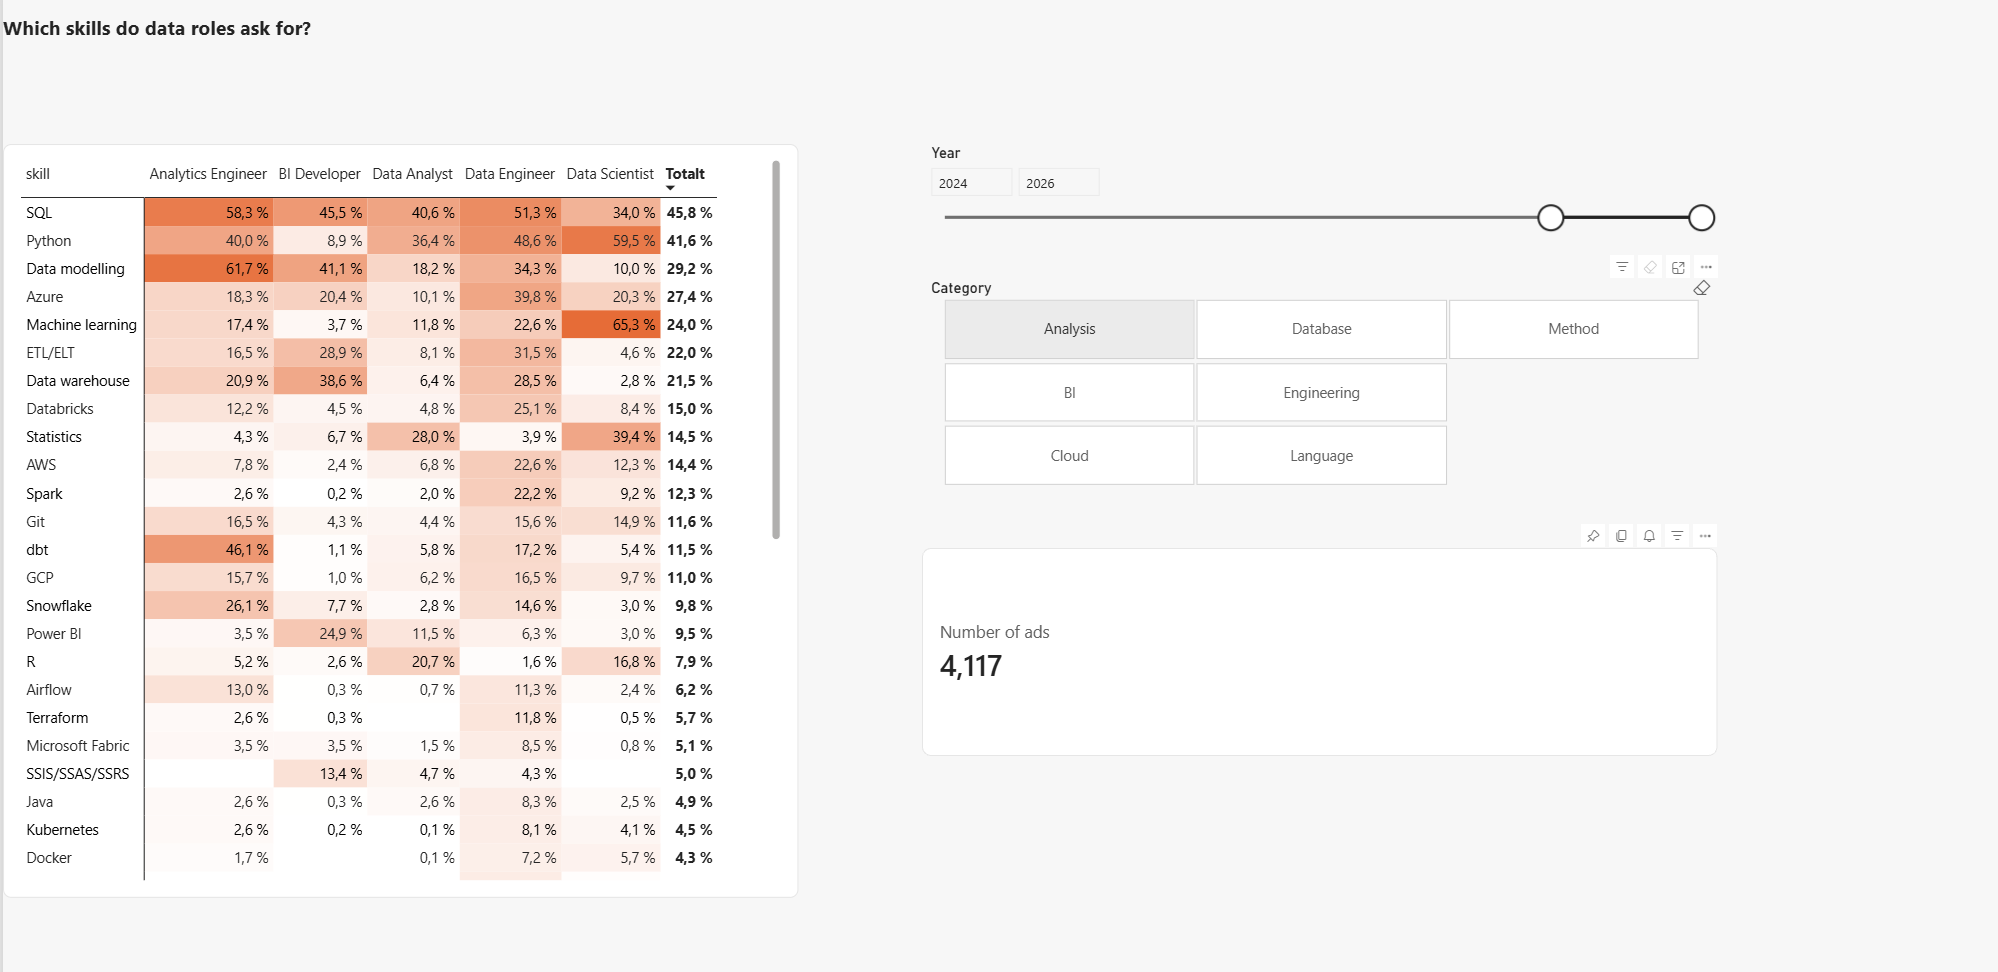

The page's visual inventory and layout, read from the dashboard file:
{"tool":"powerbi","page":{"name":"Skills in demand","canvas":[1920,1080],"ordinal":0},"visuals":[{"type":"pivotTable","fields":{"Columns":["dim_role.role"],"Rows":["dim_skill.skill"],"Values":["_Measures.Skill share"]},"box":[0,145.3,765.4,724.6],"z":0},{"type":"slicer","fields":{"Values":["dim_date.year"]},"box":[884.9,145.3,765,200],"z":1},{"type":"slicer","fields":{"Values":["dim_skill.category"]},"box":[884.9,274.7,765,200],"z":2},{"type":"cardVisual","fields":{"Data":["_Measures.Ads (text)"]},"box":[883.9,533.5,765,200],"z":3},{"type":"textbox","box":[0,19.9,765.4,37.8],"z":4}]}

Visuals, with their boxes on the page's 1920x1080 design canvas (x1, y1, x2, y2). These are canvas units, not pixel positions in the 1998x972 screenshot, which may show the page scaled, cropped or inside an application window:
pivotTable - dim_role.role x dim_skill.skill: l=0, t=145, r=765, b=870
slicer - dim_date.year: l=885, t=145, r=1650, b=345
slicer - dim_skill.category: l=885, t=275, r=1650, b=475
cardVisual - _Measures.Ads (text): l=884, t=534, r=1649, b=734
textbox: l=0, t=20, r=765, b=58
